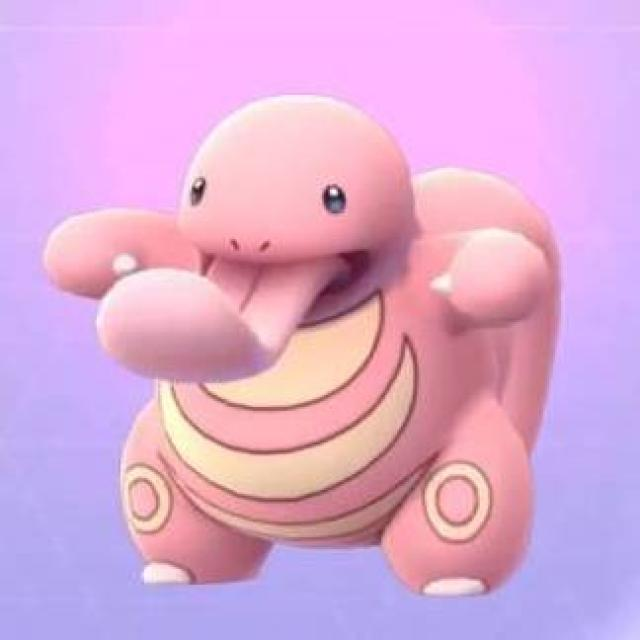Lickitung: (96, 90, 542, 599)
